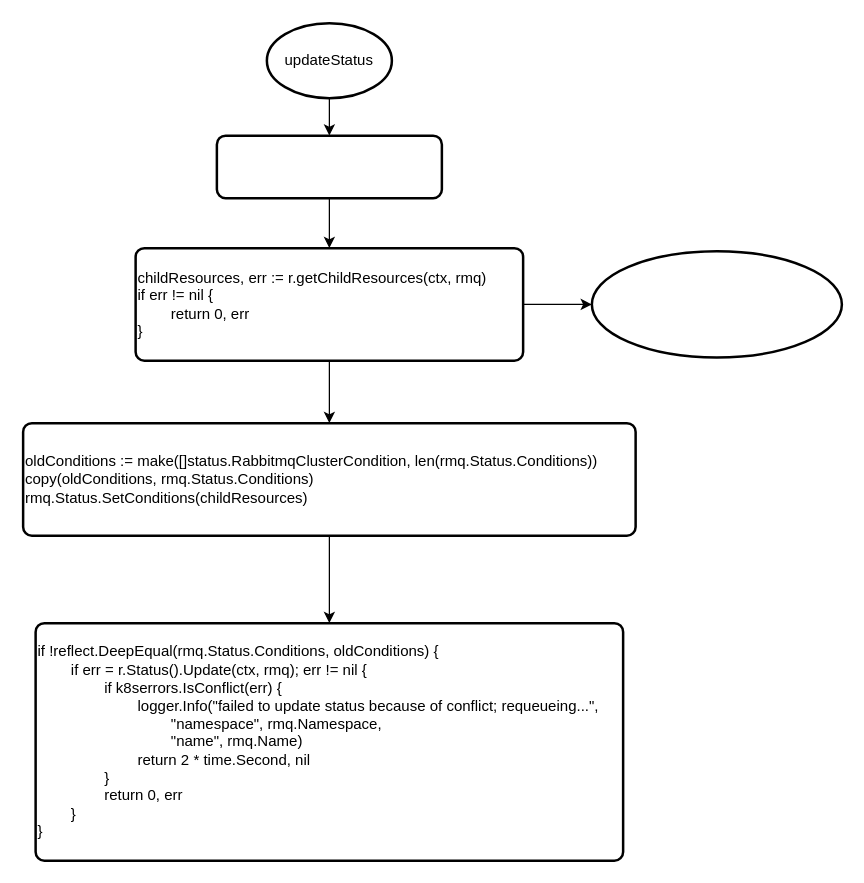
Some shapes in this 864 by 883 pixel diagram are drawn without their labels. The box of each missing label's shape, as (x1, y1, x2, y2) in pixels:
logger := ctrl.LoggerFrom(ctx): (215, 134, 442, 199)
r.getChildResources(ctx, rmq): (590, 249, 842, 358)
